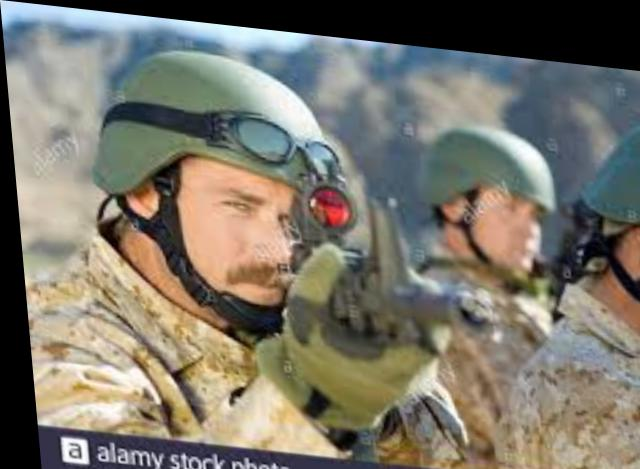other: (3, 36, 359, 449), (371, 110, 569, 462), (532, 96, 640, 468)
